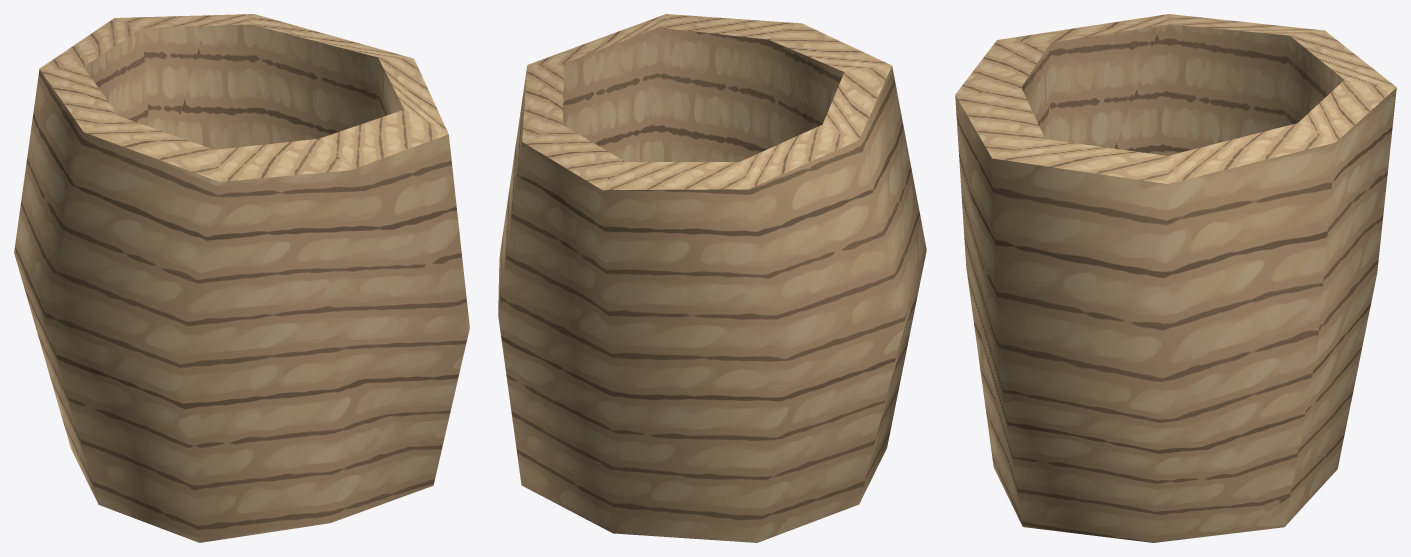
The model's file is SM_PROP_basket_02.fbx.
The picture shows the model from 3 angles, left to right: view 1: azimuth 30°, elevation 25°; view 2: azimuth 150°, elevation 25°; view 3: azimuth 270°, elevation 25°; orthographic projection.
Visible parts, largest first — view 1: SM_PROP_basket_02; view 2: SM_PROP_basket_02; view 3: SM_PROP_basket_02.
Boxes of the visible parts, bbox=[...] form: SM_PROP_basket_02: bbox=[14, 14, 469, 542]; SM_PROP_basket_02: bbox=[498, 14, 926, 542]; SM_PROP_basket_02: bbox=[955, 14, 1396, 542].
Size of the model in its own units: 50.84 by 45.32 by 47.38.
